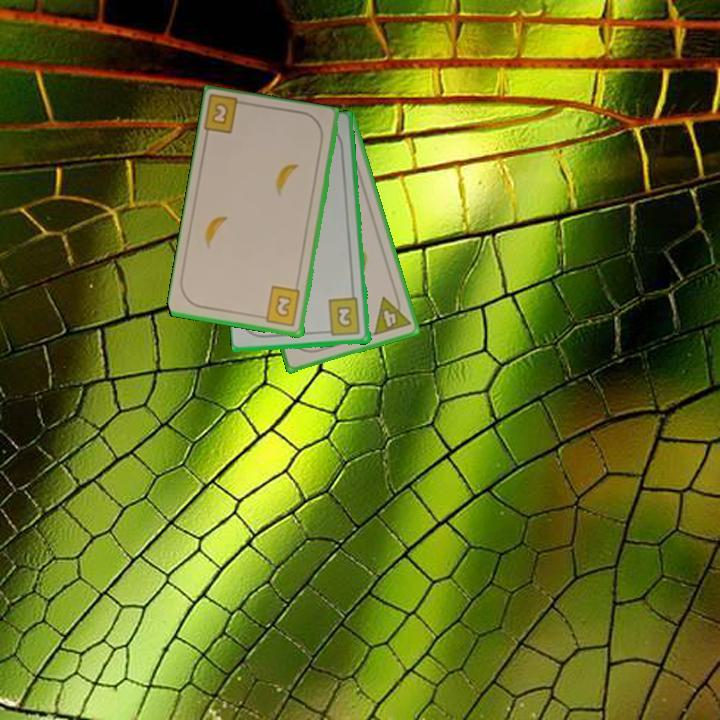2b: (202, 93, 252, 137), (257, 283, 303, 329), (321, 295, 363, 339)
4p: (370, 290, 414, 338)
